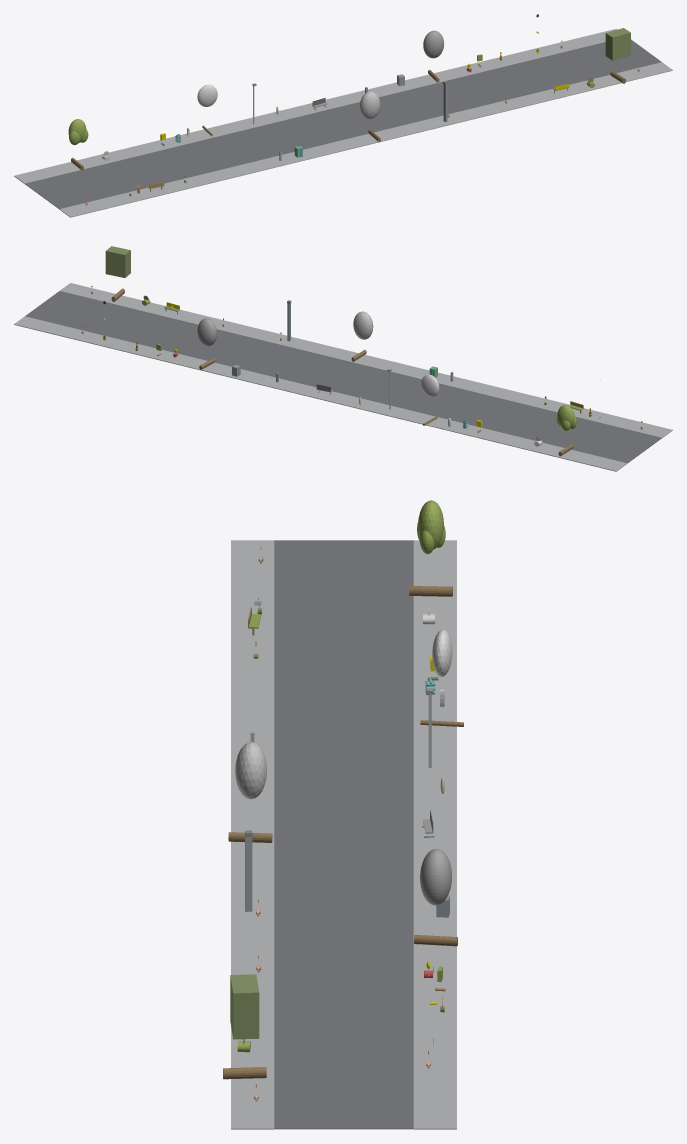
The picture shows the model from 3 angles, top to bottom: view 1: azimuth 30°, elevation 25°; view 2: azimuth 150°, elevation 25°; view 3: azimuth 270°, elevation 25°; orthographic projection. The views are drawn at different scales.
Parts seen in each view (by area): view 1: road_slab, sidewalk_left, sidewalk_right, inst_0016, inst_0014, inst_0015, inst_0012, inst_0013; view 2: road_slab, sidewalk_right, sidewalk_left, inst_0016, inst_0014, inst_0015, inst_0012, inst_0013; view 3: road_slab, sidewalk_right, sidewalk_left, inst_0016, inst_0015, inst_0014, inst_0012, inst_0013.
Part boxes in pixels (x1,y1,x2,y2): road_slab: [25, 39, 661, 209]; sidewalk_left: [59, 62, 672, 217]; sidewalk_right: [14, 28, 617, 183]; inst_0016: [605, 28, 630, 83]; inst_0014: [359, 91, 380, 142]; inst_0015: [423, 30, 444, 82]; inst_0012: [68, 119, 88, 170]; inst_0013: [197, 84, 217, 136]; road_slab: [25, 291, 661, 463]; sidewalk_right: [14, 316, 627, 471]; sidewalk_left: [60, 283, 672, 438]; inst_0016: [105, 246, 130, 301]; inst_0014: [351, 311, 373, 361]; inst_0015: [197, 318, 217, 369]; inst_0012: [557, 405, 576, 456]; inst_0013: [421, 374, 439, 425]; road_slab: [274, 540, 413, 1129]; sidewalk_right: [413, 540, 456, 1129]; sidewalk_left: [231, 540, 274, 1129]; inst_0016: [223, 974, 266, 1079]; inst_0015: [414, 849, 457, 946]; inst_0014: [228, 742, 272, 842]; inst_0012: [409, 500, 452, 596]; inst_0013: [420, 629, 463, 726].
Bounding box in the file's own units: 80 × 6.08 × 13.87.
